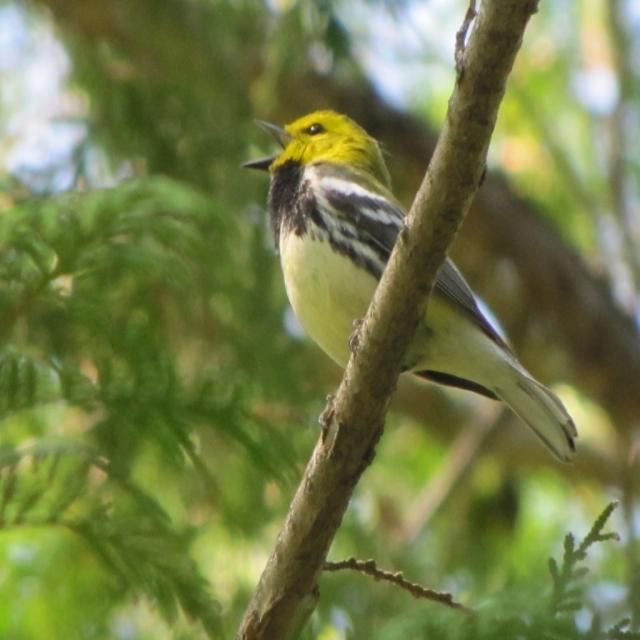bird: (238, 109, 582, 470)
